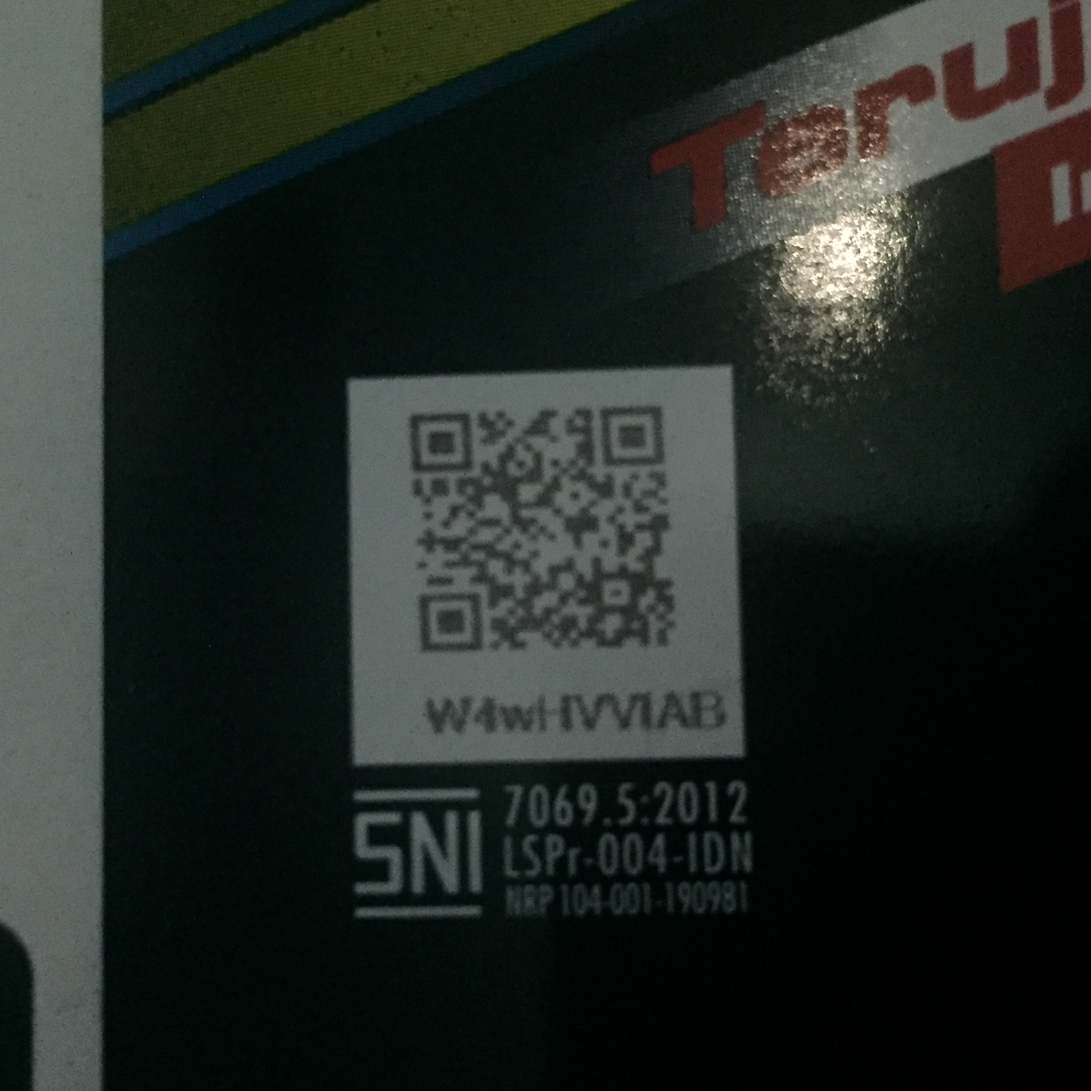QR-CODE: (396, 398, 694, 667)
